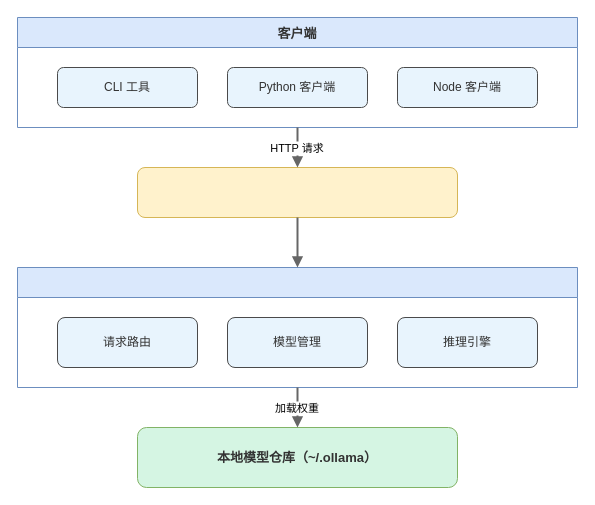
The diagram is 595 pixels wide and 505 high, and some of its shapes have lost their labels. The shapes that lost their labels are listed below. From the top down, each one's box as (x1, y1, x2, y2) in pixels, then its label:
(136, 166, 458, 218): HTTP 接口 127.0.0.1:11434
(16, 266, 578, 388): Ollama 服务进程
